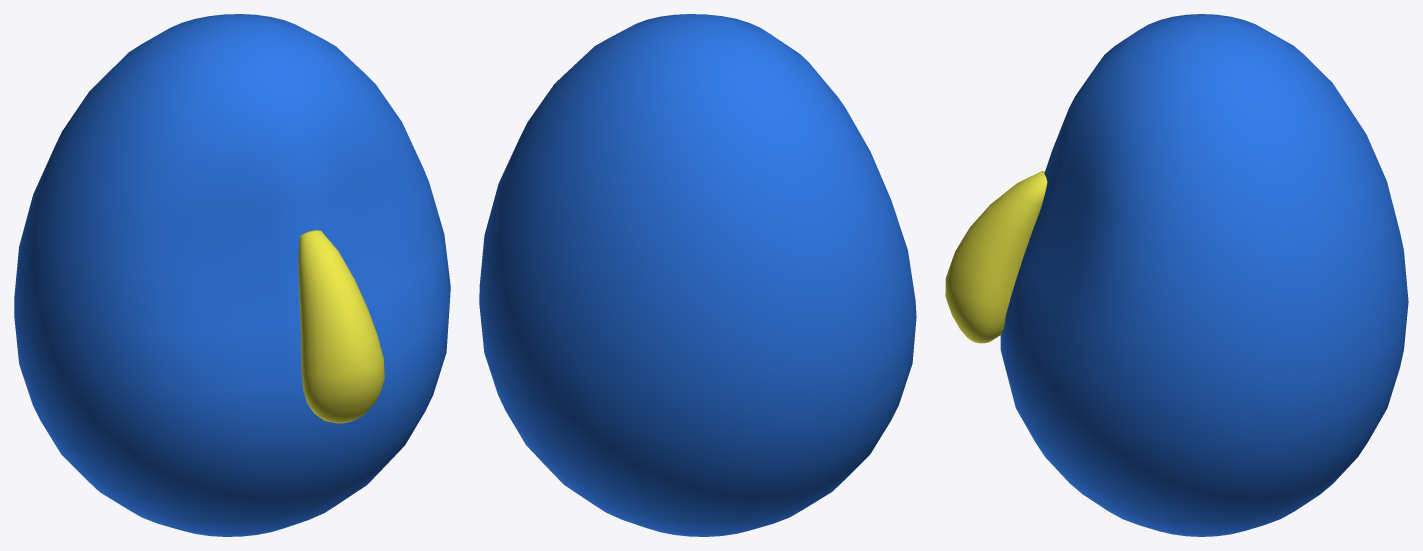
3 views of the same model, side by side, from view 1: azimuth 30°, elevation 25°; view 2: azimuth 150°, elevation 25°; view 3: azimuth 270°, elevation 25° (orthographic).
Parts seen in each view (by area): view 1: Head, Nose; view 2: Head; view 3: Head, Nose.
Boxes of the visible parts, left/top/right/bottom form: Head: left=14, top=14, right=450, bottom=536; Nose: left=298, top=230, right=384, bottom=423; Head: left=479, top=14, right=916, bottom=536; Head: left=1000, top=14, right=1408, bottom=536; Nose: left=945, top=171, right=1047, bottom=343.
Size of the model in its own units: 28.13 by 34.28 by 29.34.
